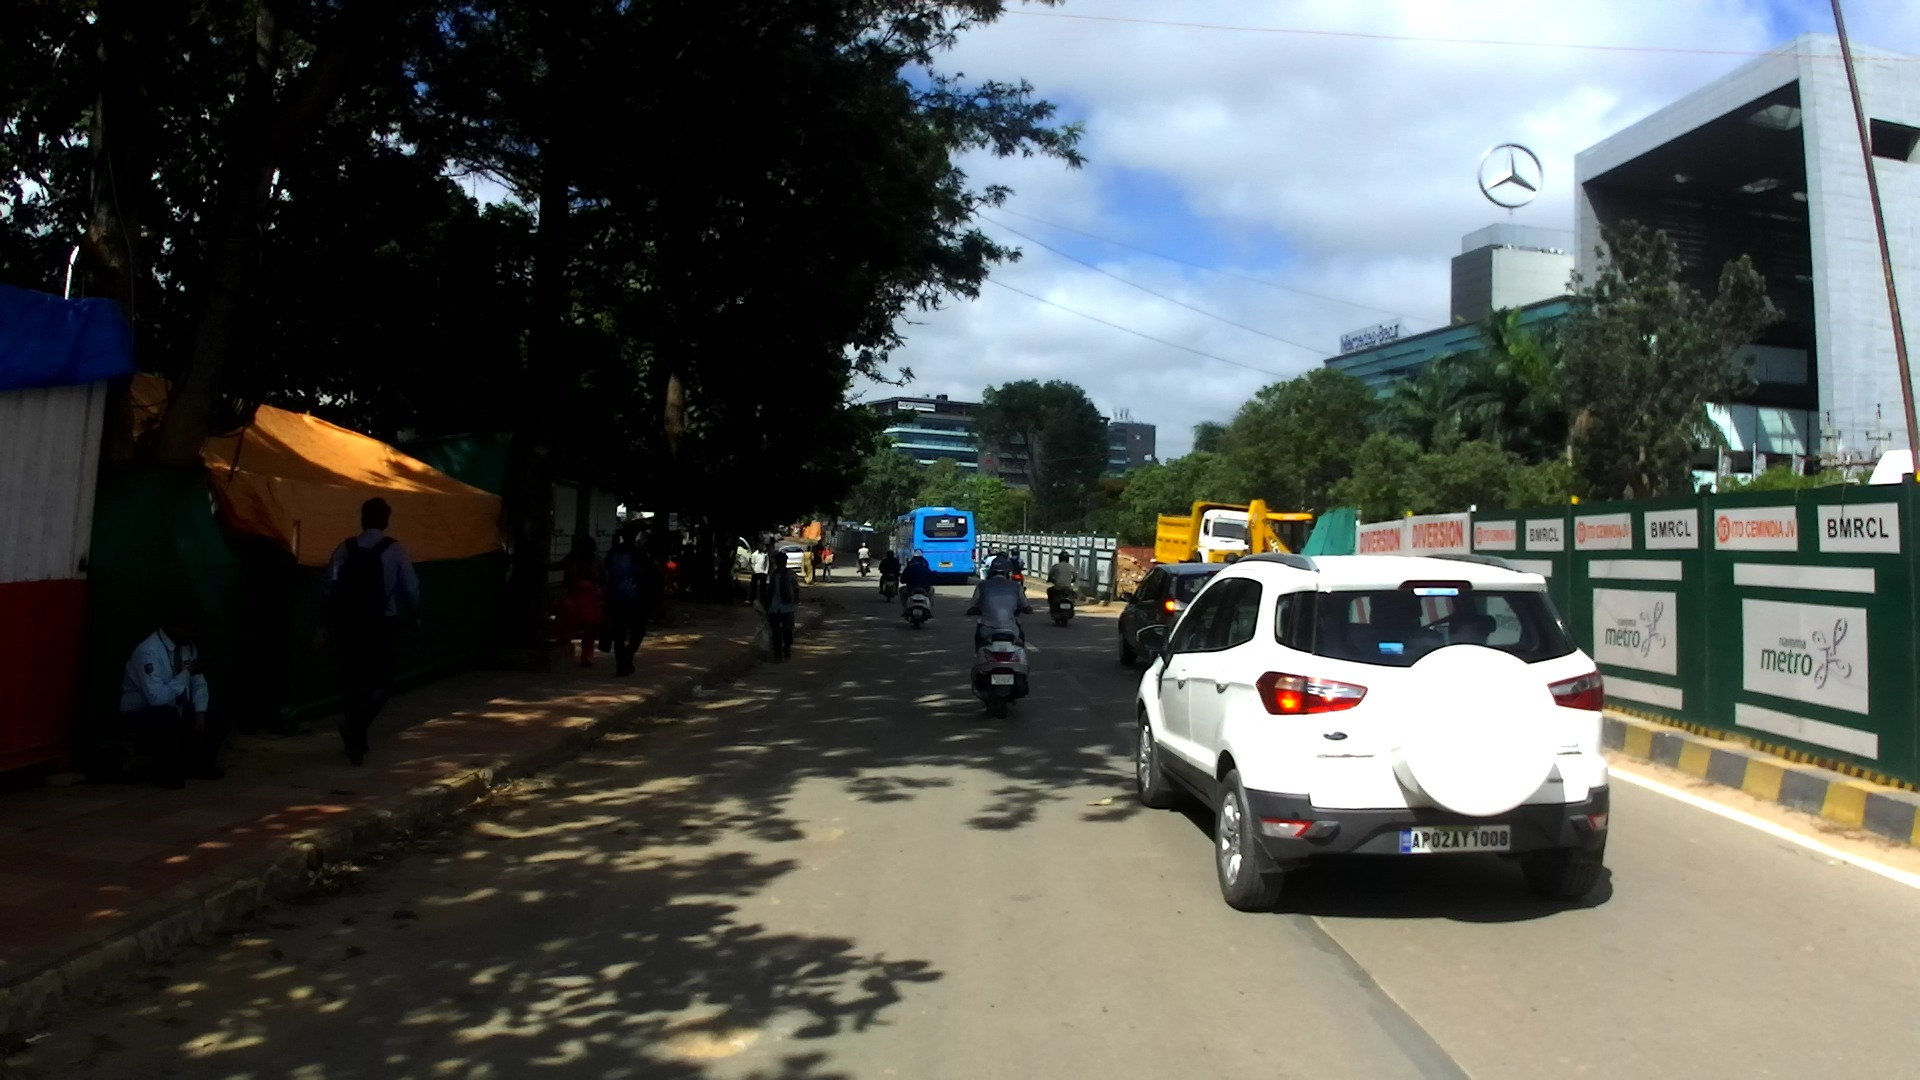bus: (895, 505, 977, 583)
car: (1134, 550, 1612, 912), (1115, 561, 1233, 667), (774, 543, 806, 572), (761, 529, 772, 548)
motorcycle: (967, 607, 1037, 717), (901, 570, 938, 632), (1046, 577, 1077, 628), (675, 540, 702, 594), (877, 563, 904, 602), (1005, 561, 1027, 592), (979, 559, 1010, 580), (857, 550, 872, 577), (812, 548, 823, 567), (904, 556, 909, 565)
person: (312, 494, 423, 764), (119, 603, 230, 788), (549, 533, 604, 672), (600, 518, 646, 679), (764, 549, 803, 666), (746, 541, 772, 608), (601, 533, 621, 576), (637, 521, 654, 565), (799, 544, 816, 585), (819, 542, 835, 584), (768, 528, 775, 557)
rider: (959, 555, 1036, 669), (896, 554, 937, 610), (1047, 550, 1080, 616), (876, 549, 900, 595), (977, 548, 1000, 585), (1007, 546, 1027, 579), (905, 549, 930, 574), (997, 549, 1015, 581), (855, 541, 870, 574), (983, 544, 995, 574), (1223, 551, 1240, 565), (814, 539, 825, 558)
truck: (1153, 499, 1273, 568), (732, 537, 754, 570)
vehicle fallback: (1244, 494, 1319, 560), (640, 527, 691, 597), (790, 518, 824, 543), (837, 521, 879, 532)
